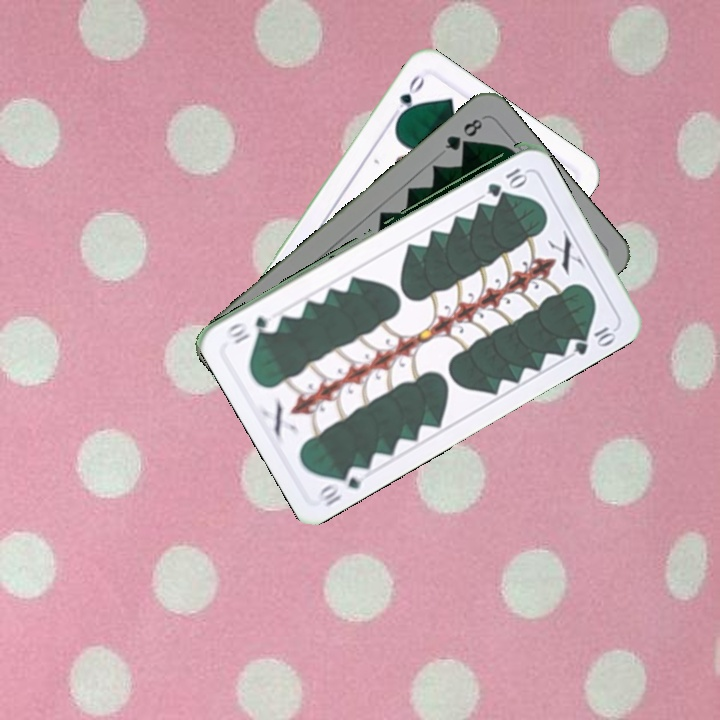G10: (315, 461, 371, 510), (483, 164, 529, 198)
G8: (440, 114, 486, 154)
GO: (387, 70, 428, 124)
